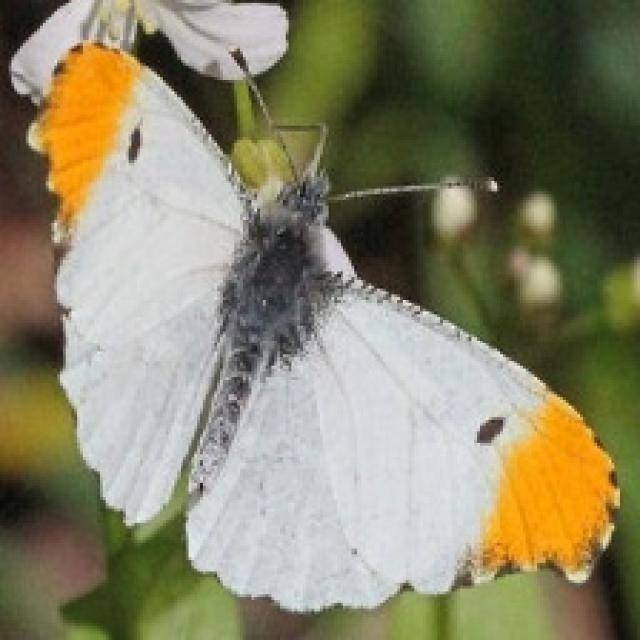butterfly: (14, 26, 620, 614)
